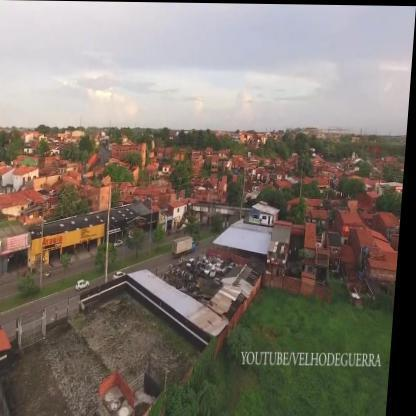lixo: (170, 262, 202, 295), (201, 256, 233, 279)
